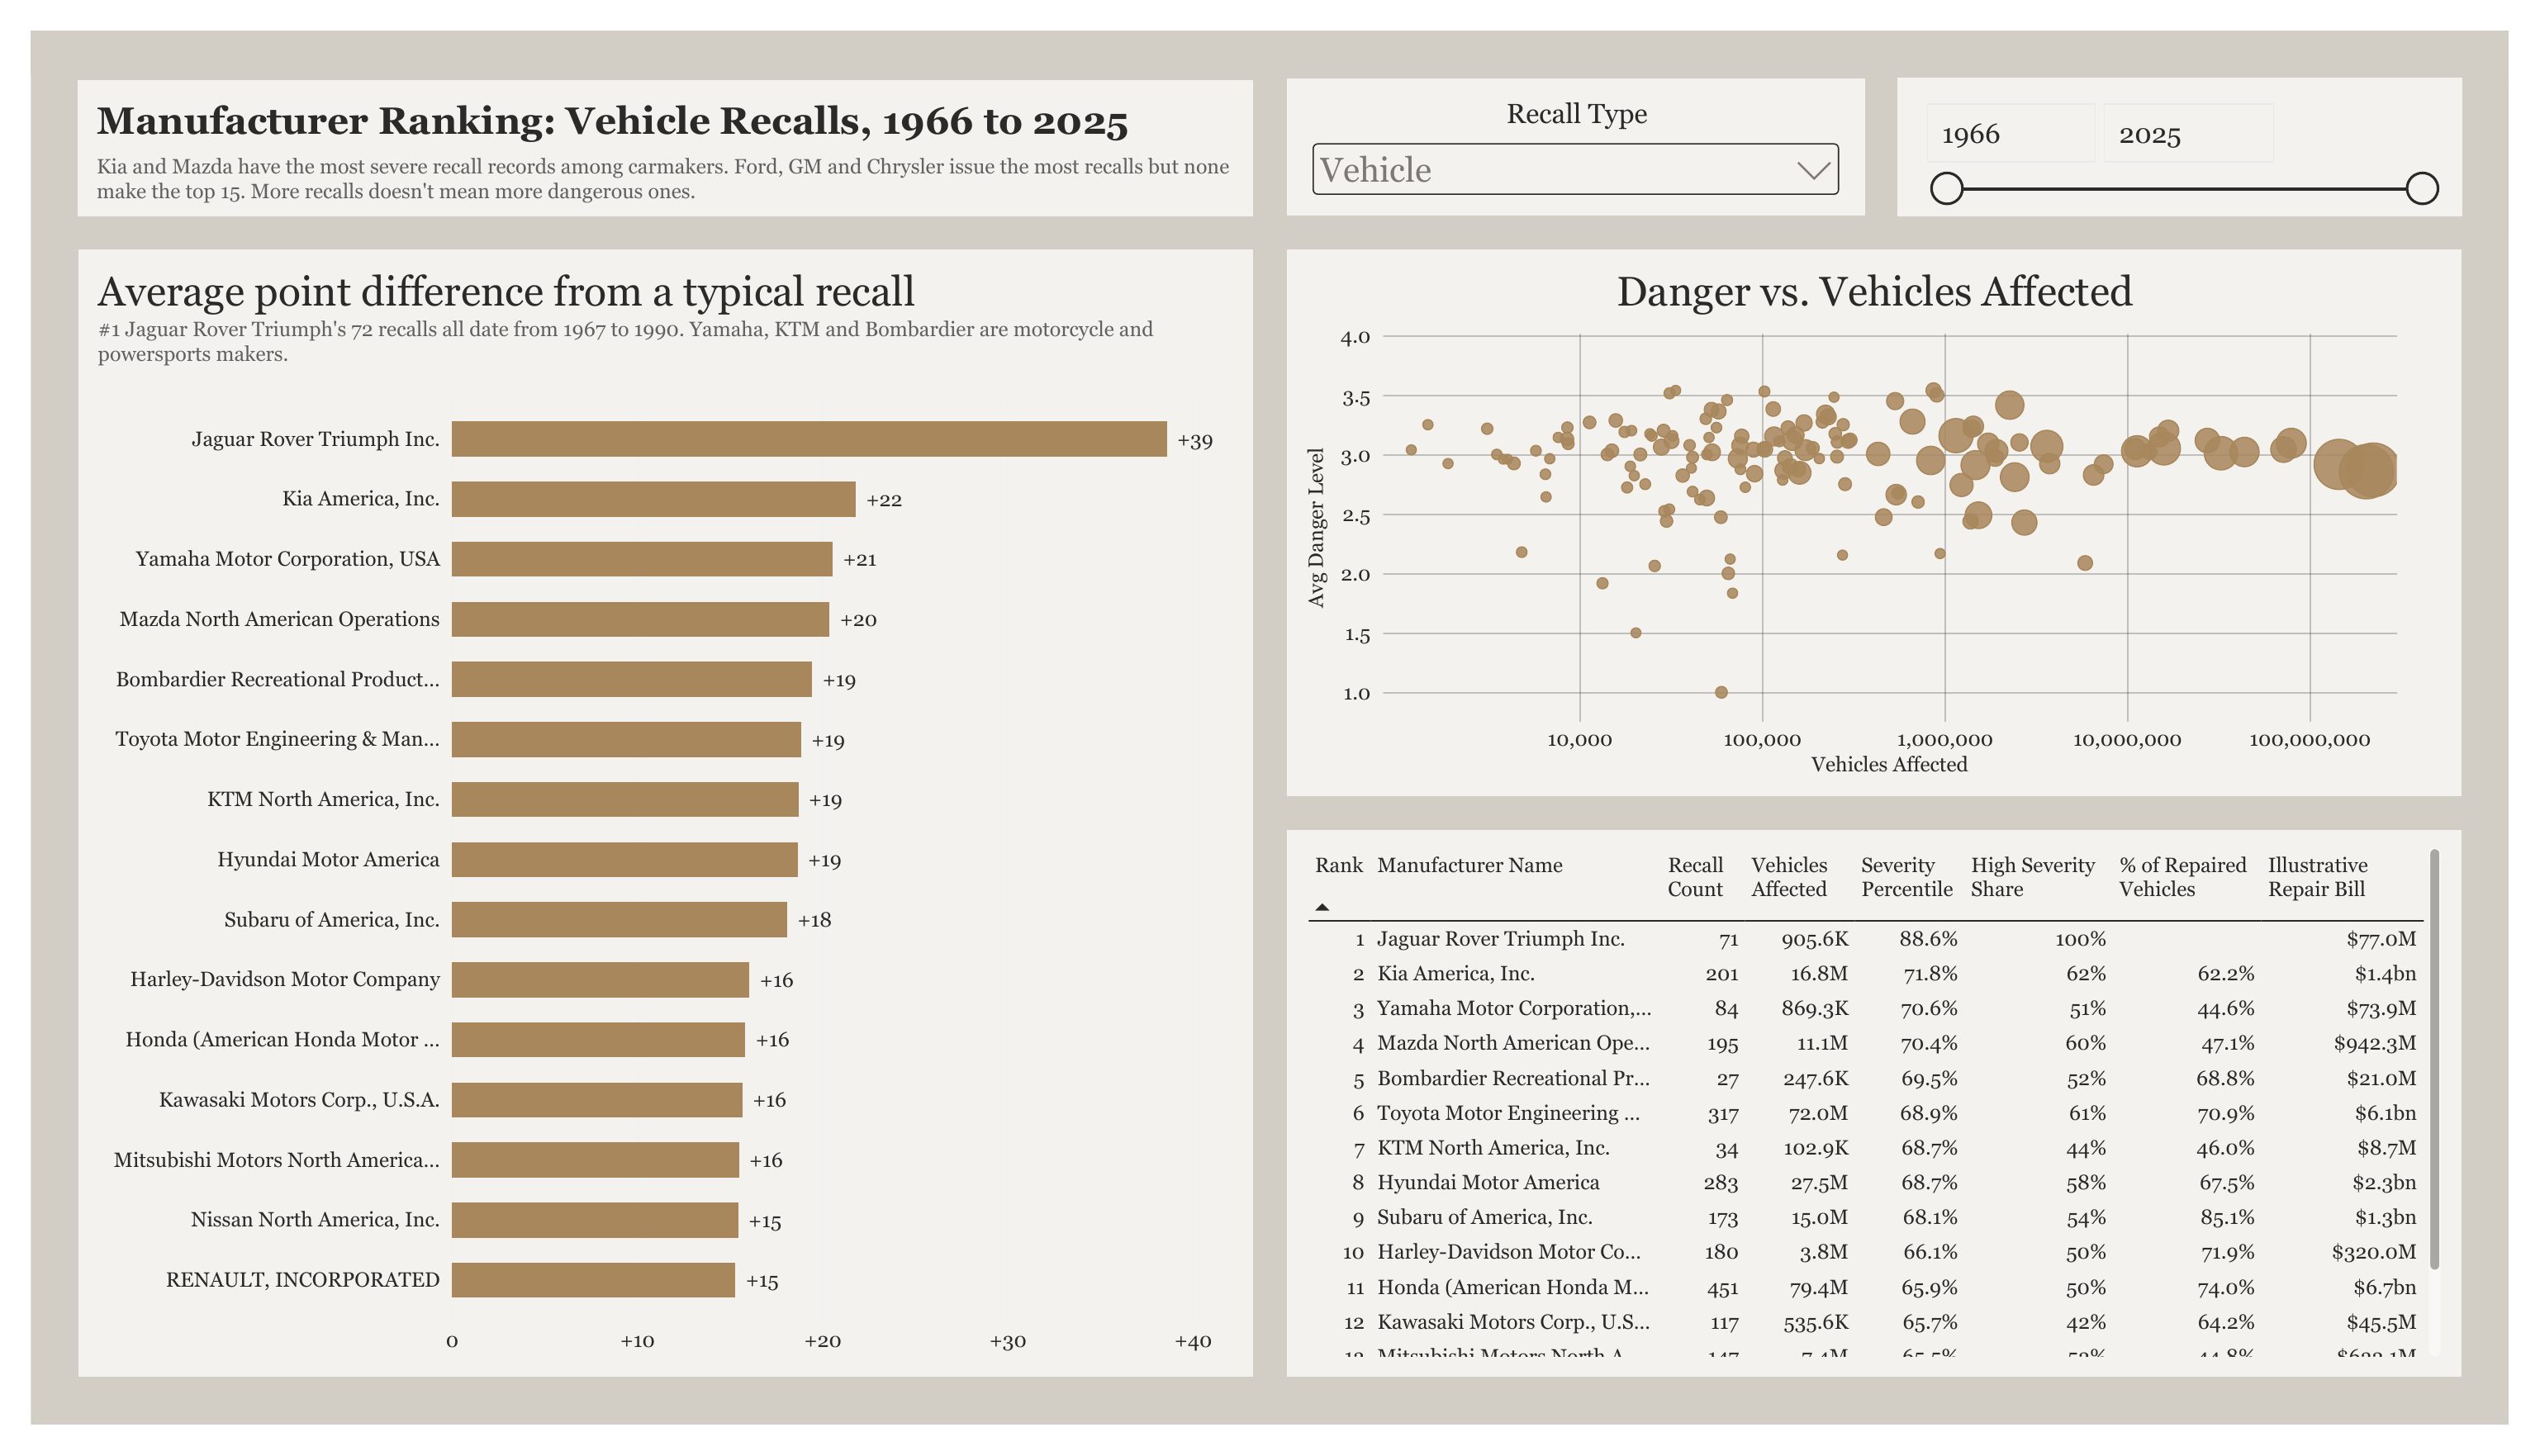

The page's visual inventory and layout, read from the dashboard file:
{"tool":"powerbi","page":{"name":"Manufacturer Ranking","canvas":[1920,1080],"ordinal":1},"visuals":[{"type":"slicer","title":"Year","fields":{"Values":["Date.Year"]},"box":[1446,36,438,108],"z":0},{"type":"scatterChart","title":"Danger vs. Vehicles Affected","fields":{"Category":["manufacturers.manufacturer_name"],"Size":["_Measures.Recall Count"],"X":["_Measures.Vehicles Affected (Axis)"],"Y":["_Measures.Avg Danger Level"]},"box":[972,168,912,426],"z":1000},{"type":"clusteredBarChart","title":"Average point difference from a typical recall","fields":{"Category":["manufacturers.manufacturer_name"],"Y":["_Measures.Severity vs Typical"]},"box":[36,168,912,876],"z":2000},{"type":"tableEx","fields":{"Values":["_Measures.Manufacturer Rank","manufacturers.manufacturer_name","_Measures.Recall Count","_Measures.Vehicles Affected","_Measures.Avg Severity Percentile","_Measures.High Severity Share","_Measures.% of Affected Vehicles Repaired","_Measures.Illustrative Repair Bill"]},"box":[972,618,912,426],"z":3000},{"type":"slicer","title":"Recall Type","fields":{"Values":["recalls.recall_type"]},"box":[972,36,450,108],"z":4000},{"type":"cardVisual","fields":{"Data":["_Measures.Ranking Title"]},"box":[35,36.7,913.3,108.3],"z":5000}]}

Visuals, with their boxes on the page's 1920x1080 design canvas (x1, y1, x2, y2). These are canvas units, not pixel positions in the 2540x1456 screenshot, which may show the page scaled, cropped or inside an application window:
"Year" slicer: 1446,36,1884,144
"Danger vs. Vehicles Affected" scatterChart: 972,168,1884,594
"Average point difference from a typical recall" clusteredBarChart: 36,168,948,1044
tableEx - _Measures.Manufacturer Rank x manufacturers.manufacturer_name: 972,618,1884,1044
"Recall Type" slicer: 972,36,1422,144
cardVisual - _Measures.Ranking Title: 35,37,948,145
